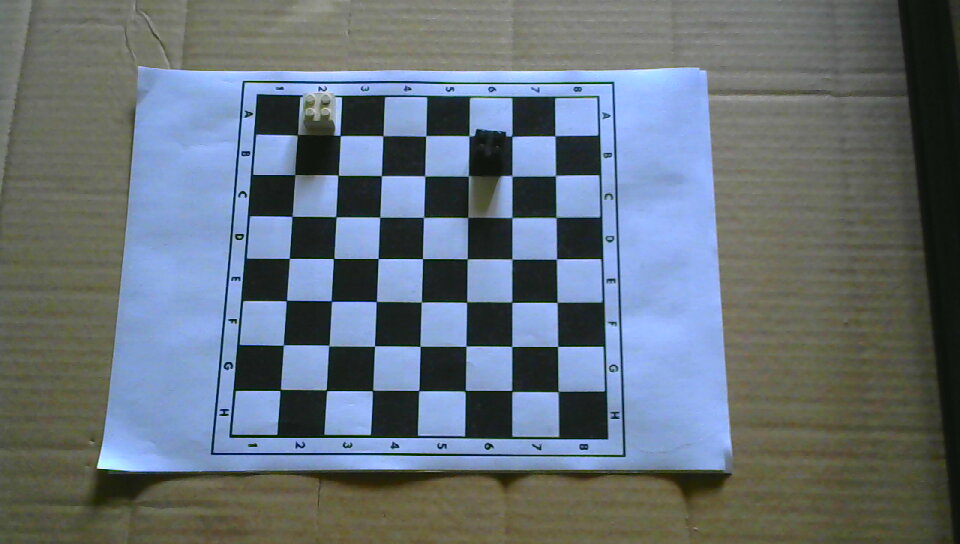bp: (472, 128, 508, 169)
wp: (302, 91, 338, 132)
